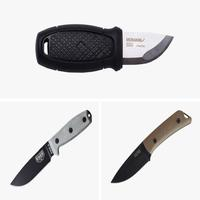knife: (24, 14, 181, 76), (7, 109, 106, 192), (101, 108, 189, 195)
